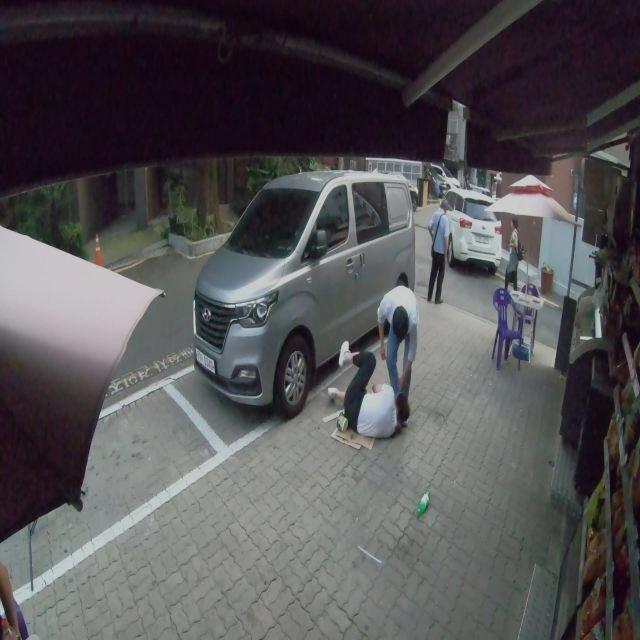fight: (332, 275, 419, 444)
non-fight: (425, 197, 453, 305)
